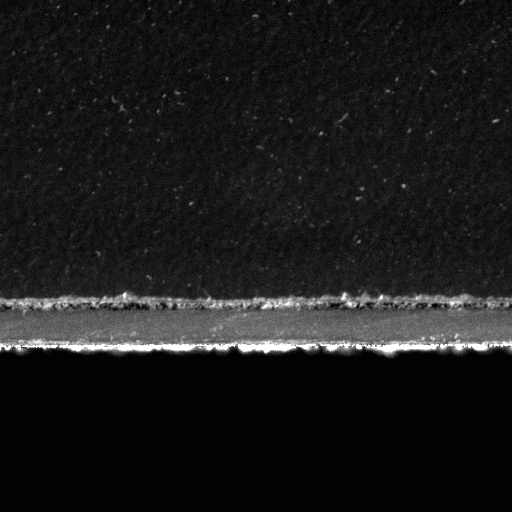jiaofeng: (310, 296, 452, 314), (96, 296, 206, 313)
